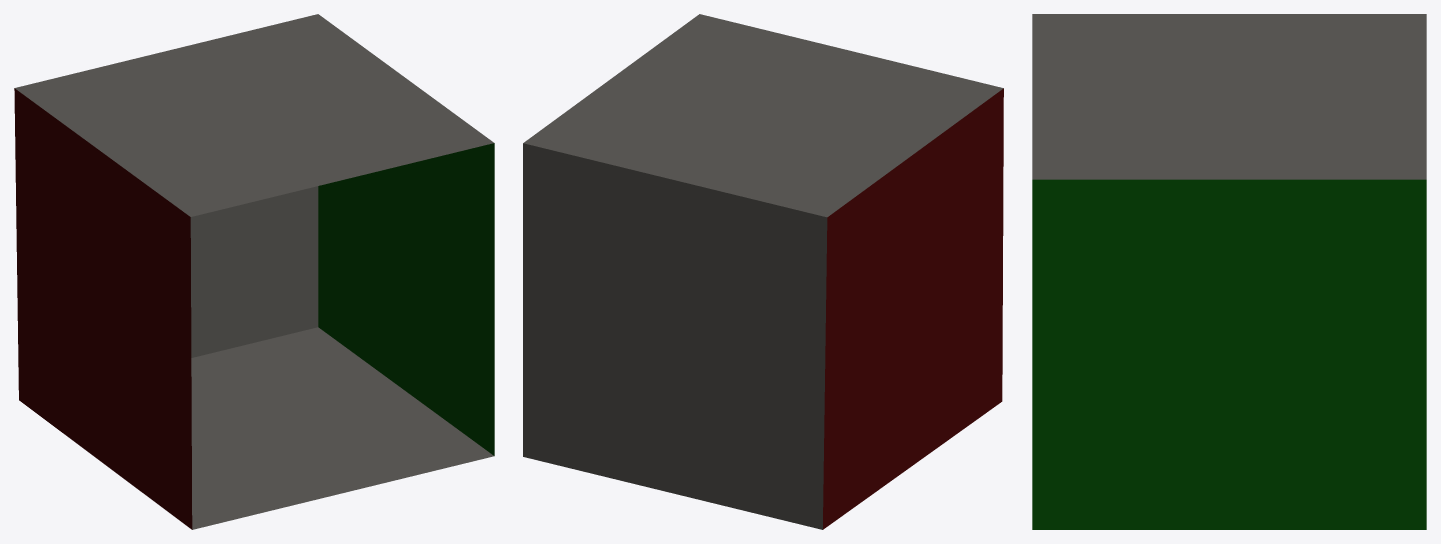
The model's file is CornellBox-01.fbx.
3 views of the same model, side by side, from view 1: azimuth 30°, elevation 25°; view 2: azimuth 150°, elevation 25°; view 3: azimuth 270°, elevation 25° (orthographic). The views are drawn at different scales.
Visible parts, largest first — view 1: cornell-box; view 2: cornell-box; view 3: cornell-box.
Boxes of the visible parts, box(x1,y1,x2,y2) form: cornell-box: box(14, 14, 494, 529); cornell-box: box(523, 14, 1003, 529); cornell-box: box(1032, 14, 1426, 529).
Size of the model in its own units: 2.02 by 1.99 by 2.03.
